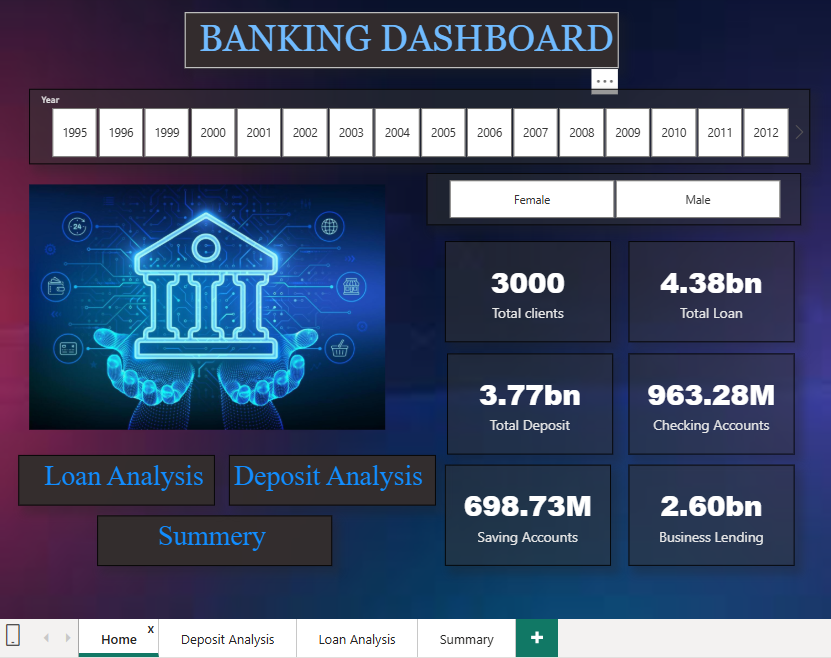

The page's visual inventory and layout, read from the dashboard file:
{"tool":"powerbi","page":{"name":"Home","canvas":[960,720],"ordinal":0},"visuals":[{"type":"textbox","box":[213.3,18.7,501.3,64.8],"z":0},{"type":"slicer","fields":{"Values":["Banking_case_customer.GenderId"]},"box":[492.9,204.3,432.9,60],"z":1000},{"type":"card","fields":{"Values":["Banking_case_customer.Total Loan"]},"box":[725.7,282.9,192,117],"z":2000},{"type":"card","fields":{"Values":["Banking_case_customer.Total Deposit"]},"box":[515.7,412.9,192,117],"z":3000},{"type":"slicer","fields":{"Values":["Banking_case_customer.Year of Joining"]},"box":[34.3,107.1,901.4,87.1],"z":4000},{"type":"card","fields":{"Values":["CountNonNull(Banking_case_customer.Client ID)"]},"box":[514.3,282.9,192,117],"z":5000},{"type":"card","fields":{"Values":["Sum(Banking_case_customer.Saving Accounts)"]},"box":[514.3,541.4,192,117],"z":6000},{"type":"card","fields":{"Values":["Sum(Banking_case_customer.Business Lending)"]},"box":[725.7,541.4,192,117],"z":7000},{"type":"card","fields":{"Values":["Sum(Banking_case_customer.Checking Accounts)"]},"box":[725.7,412.9,192,117],"z":8000},{"type":"image","box":[34.3,180,411.4,360],"z":9000},{"type":"textbox","box":[112.9,600,271.4,58.6],"z":10000},{"type":"textbox","box":[21.4,530,227.1,58.6],"z":11000},{"type":"textbox","box":[264.3,530,238.6,58.6],"z":12000},{"type":"actionButton","box":[21.2,530,227,58.6],"z":13000},{"type":"actionButton","box":[264.4,532.5,238.2,56.1],"z":14000},{"type":"actionButton","box":[112.2,599.9,271.9,58.6],"z":15000}]}

Visuals, with their boxes on the page's 960x720 design canvas (x1, y1, x2, y2). These are canvas units, not pixel positions in the 831x658 screenshot, which may show the page scaled, cropped or inside an application window:
textbox: locate(213, 19, 715, 84)
slicer - Banking_case_customer.GenderId: locate(493, 204, 926, 264)
card - Banking_case_customer.Total Loan: locate(726, 283, 918, 400)
card - Banking_case_customer.Total Deposit: locate(516, 413, 708, 530)
slicer - Banking_case_customer.Year of Joining: locate(34, 107, 936, 194)
card - CountNonNull(Banking_case_customer.Client ID): locate(514, 283, 706, 400)
card - Sum(Banking_case_customer.Saving Accounts): locate(514, 541, 706, 658)
card - Sum(Banking_case_customer.Business Lending): locate(726, 541, 918, 658)
card - Sum(Banking_case_customer.Checking Accounts): locate(726, 413, 918, 530)
image: locate(34, 180, 446, 540)
textbox: locate(113, 600, 384, 659)
textbox: locate(21, 530, 248, 589)
textbox: locate(264, 530, 503, 589)
actionButton: locate(21, 530, 248, 589)
actionButton: locate(264, 532, 503, 589)
actionButton: locate(112, 600, 384, 658)
